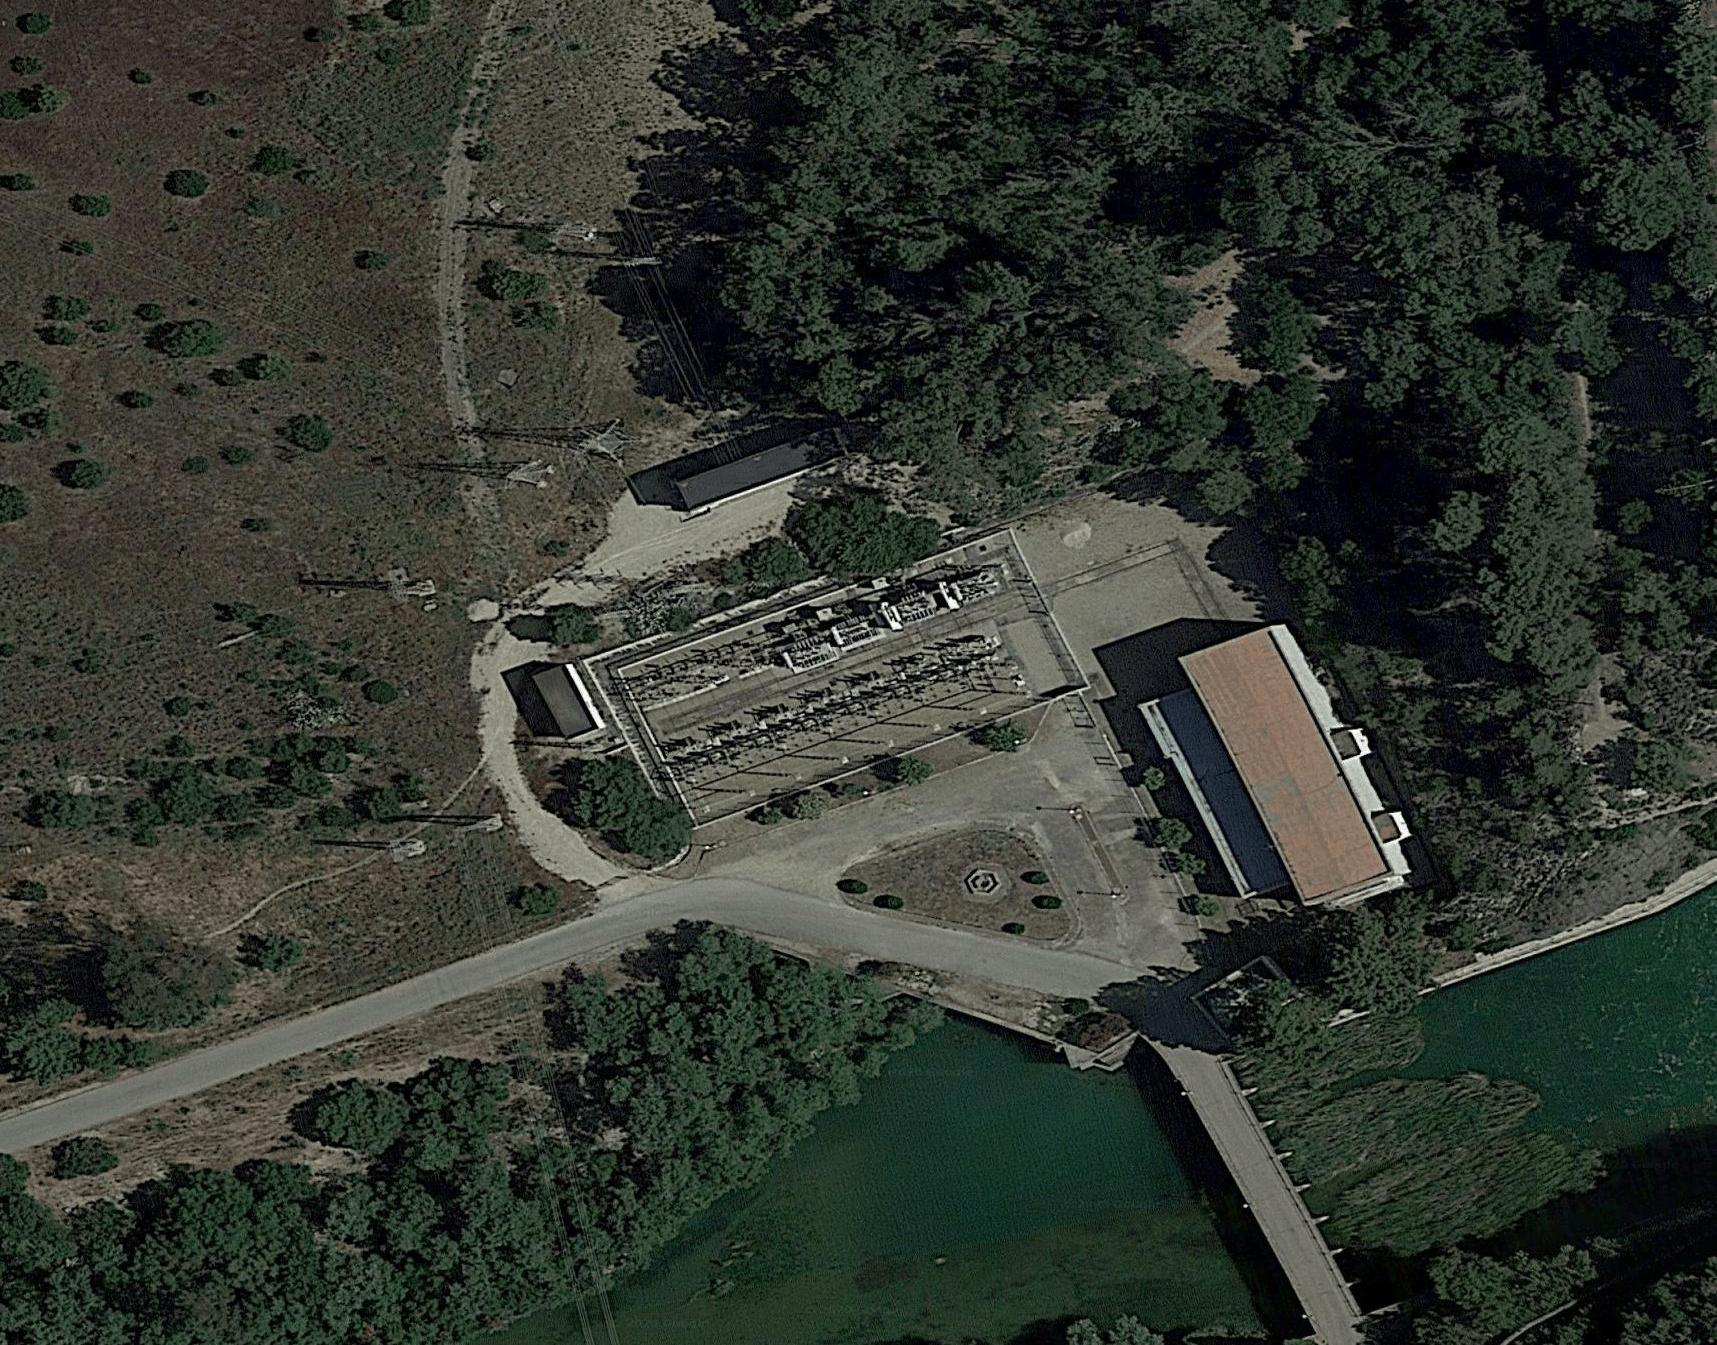substation: (612, 541, 1034, 808)
